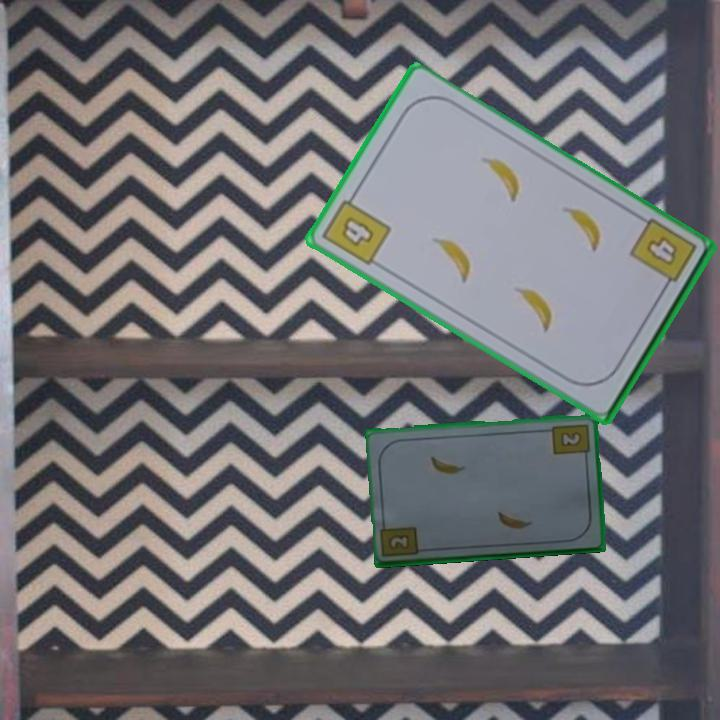2b: (549, 420, 593, 461), (387, 531, 413, 552)
4b: (318, 188, 394, 269), (626, 215, 699, 297)
